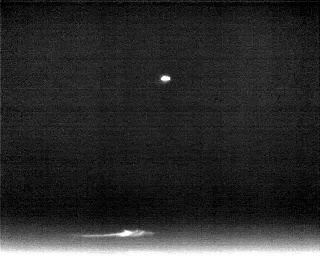AIRPLANE: (158, 72, 173, 85)
